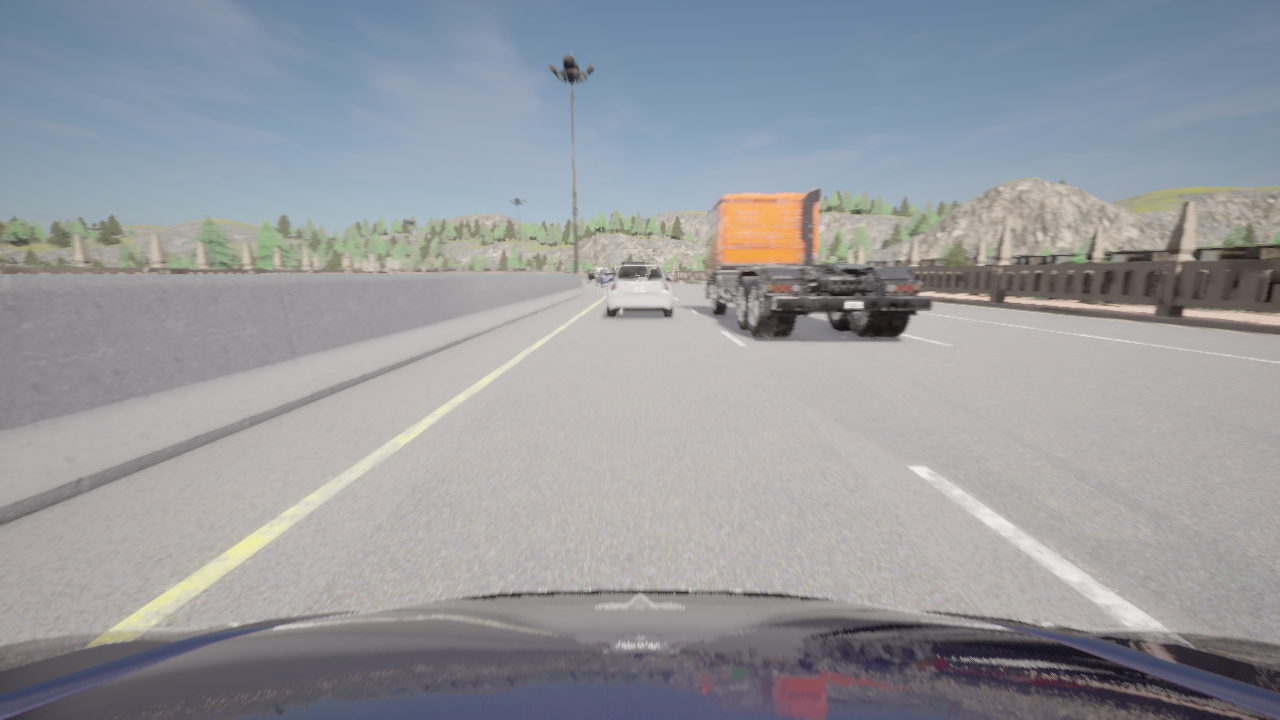cyclist: (0, 588, 1279, 719), (699, 187, 931, 336), (605, 264, 673, 317), (816, 264, 870, 274), (595, 270, 615, 286), (587, 267, 608, 282), (622, 262, 644, 263), (705, 269, 707, 276)
